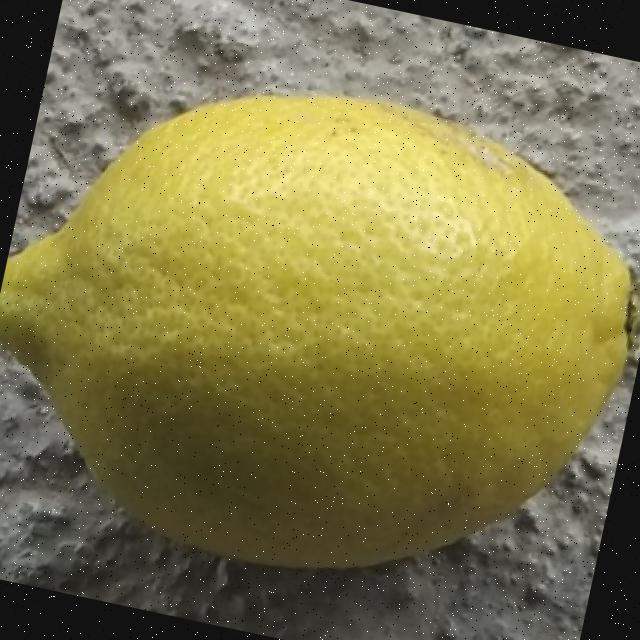Ripe: (0, 20, 640, 635)
